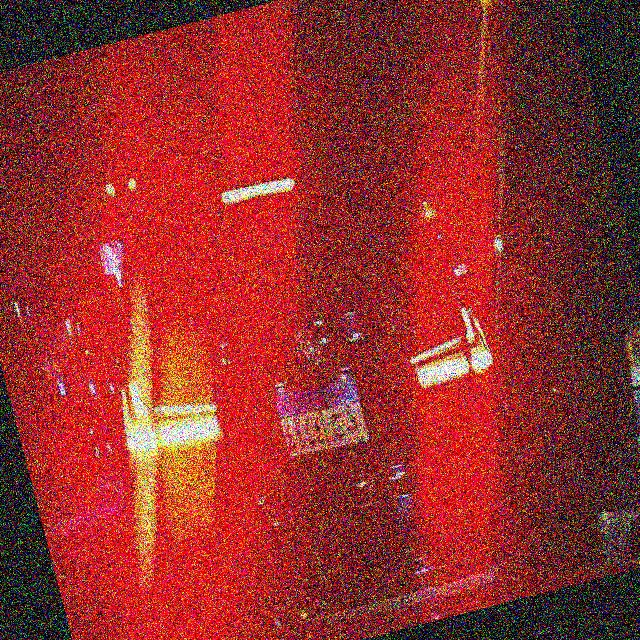License Plate: (270, 367, 374, 466)
